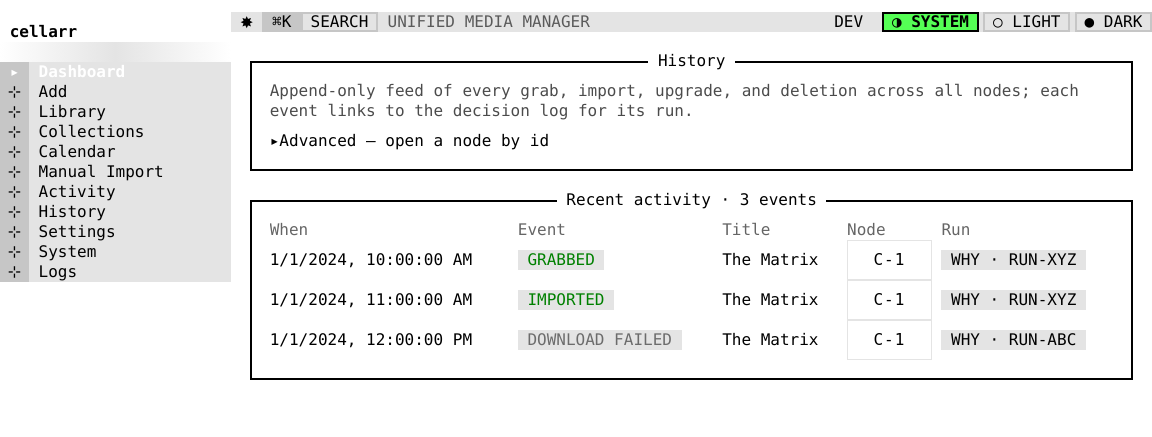
History screen › hides the raw node-id box behind an Advanced disclosure by default
The image size is (1152, 437).
# ...and revealed only when the user opens the disclosure.
Click the text "Advanced — open a node by id": click(414, 140) [279,131,549,150]
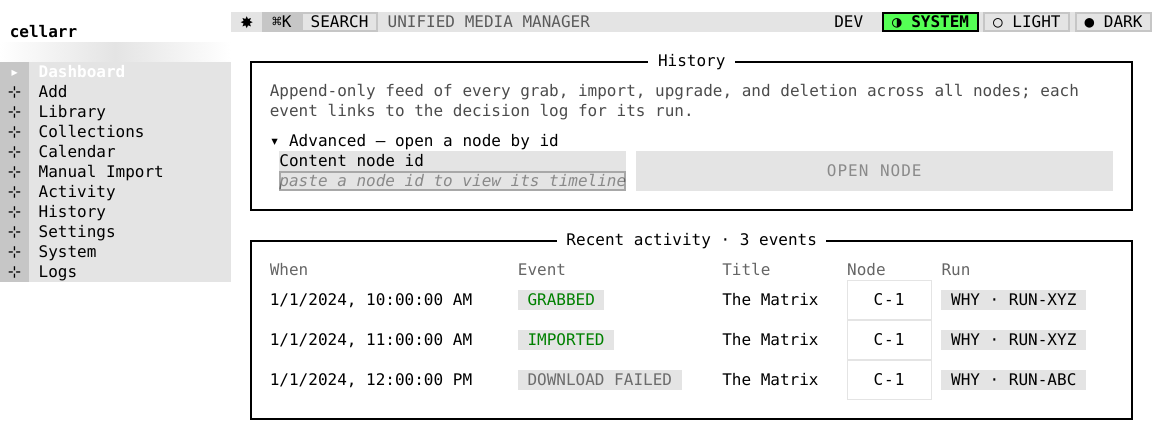
Now the field named "node" is shown, box [279,171,626,191]
